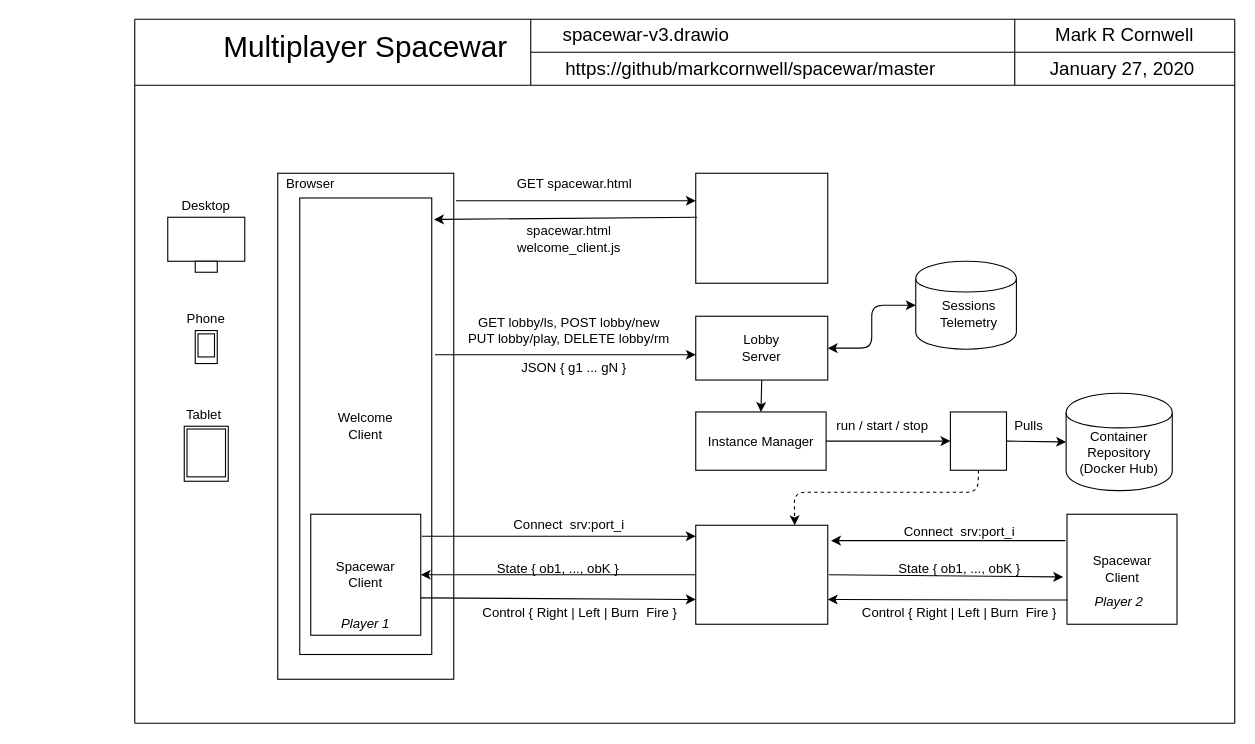
The diagram is 1255 pixels wide and 744 high, and some of its shapes have lost their labels. The box of each missing label's shape, as (x1, y1, x2, y2) in pixels:
Docker: (949, 411, 1007, 470)
Spacewar Server: (695, 524, 828, 624)
Welcome Server: (695, 172, 828, 283)
